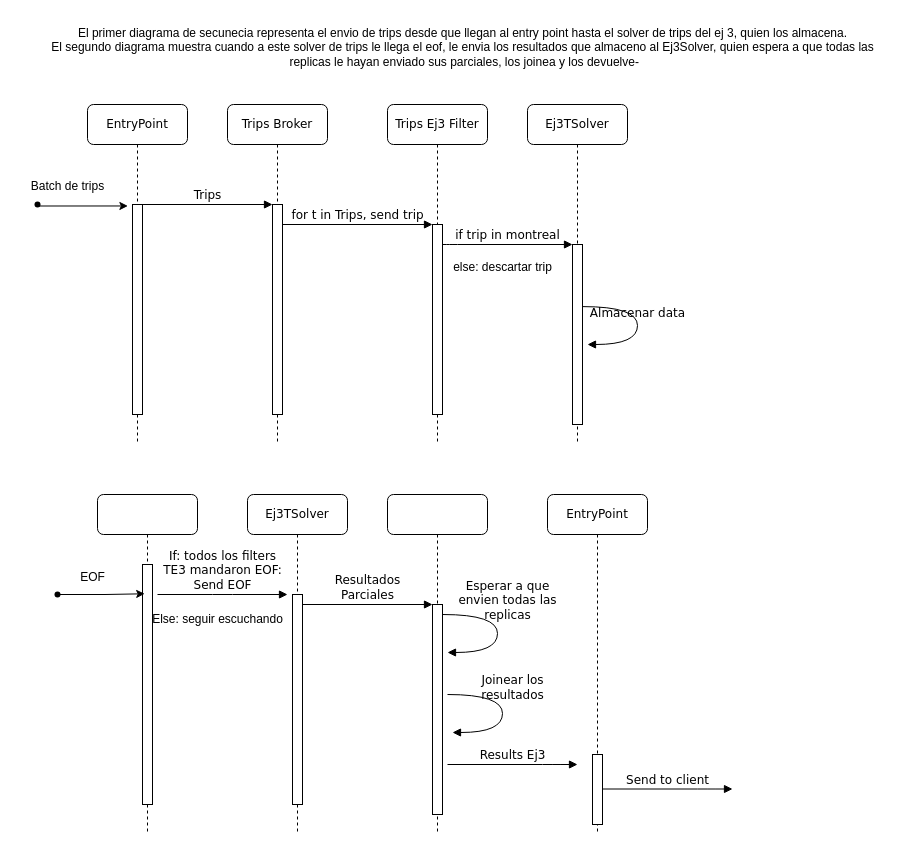
Image size: 904x852. Some labels were removed from this diagram. The shapes that lost their labels are listed below. From the top down, each one's box as (x1, y1, x2, y2) in pixels, then its label:
(96, 494, 198, 834): Eof T Listener
(386, 494, 488, 834): Ej3Solver
